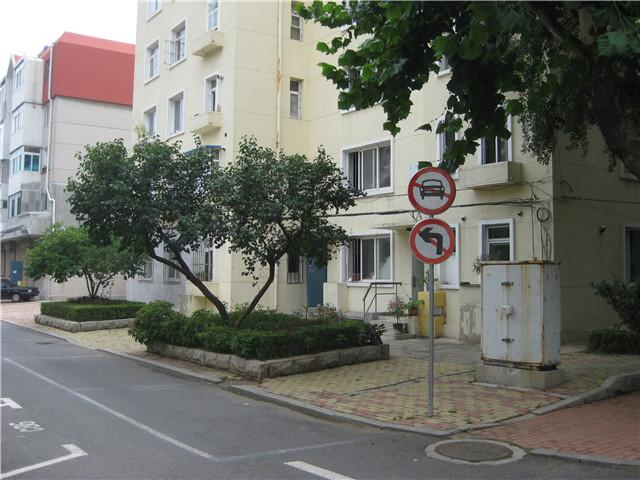not_turn_left: (409, 218, 461, 264)
